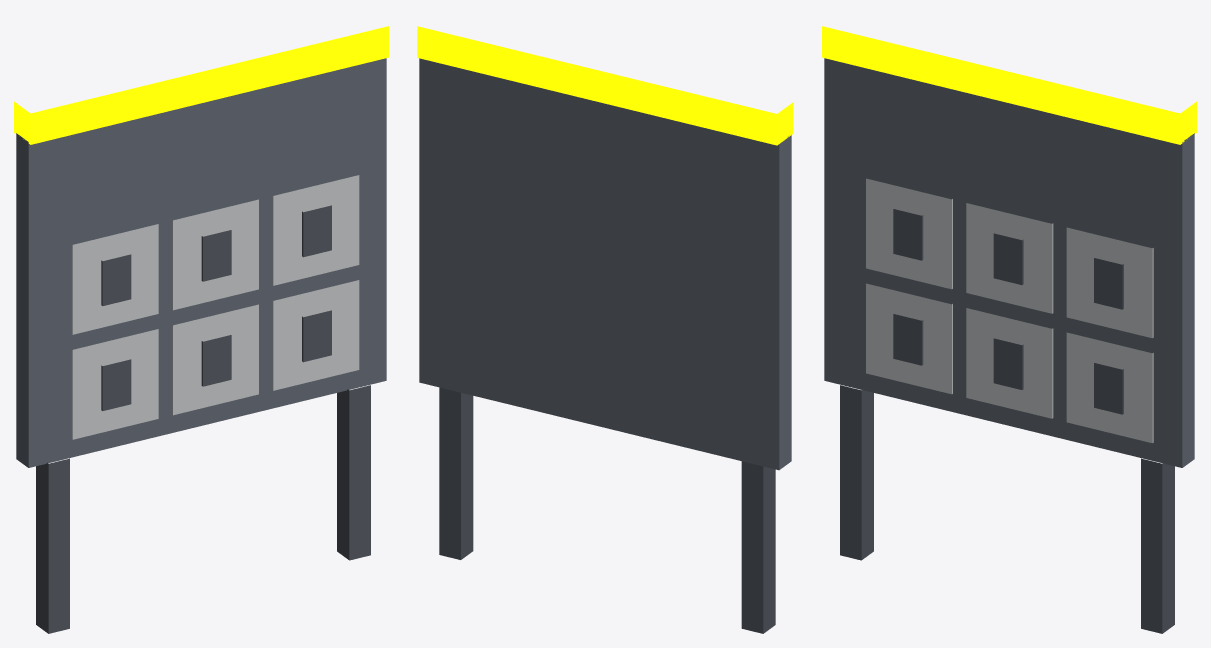
Rendered from ext_notice_board_03.glb.
3 renders of one model, left to right at view 1: azimuth 30°, elevation 25°; view 2: azimuth 150°, elevation 25°; view 3: azimuth 330°, elevation 25°, orthographic.
Visible parts, largest first — view 1: Board, Tiles, Header, Legs, Tile_Glyphs; view 2: Board, Header, Legs; view 3: Board, Tiles, Header, Legs, Tile_Glyphs.
Part boxes in pixels (<box>): Board: <box>16,58,386,467</box>; Tiles: <box>71,175,359,439</box>; Header: <box>14,26,388,144</box>; Legs: <box>36,385,370,633</box>; Tile_Glyphs: <box>101,205,331,410</box>; Board: <box>419,58,791,470</box>; Header: <box>417,26,793,145</box>; Legs: <box>439,387,775,633</box>; Board: <box>824,58,1194,467</box>; Tiles: <box>866,178,1153,443</box>; Header: <box>822,26,1196,144</box>; Legs: <box>840,385,1174,633</box>; Tile_Glyphs: <box>893,209,1123,414</box>.
Size of the model in its own units: 1 by 1.4 by 0.082.
